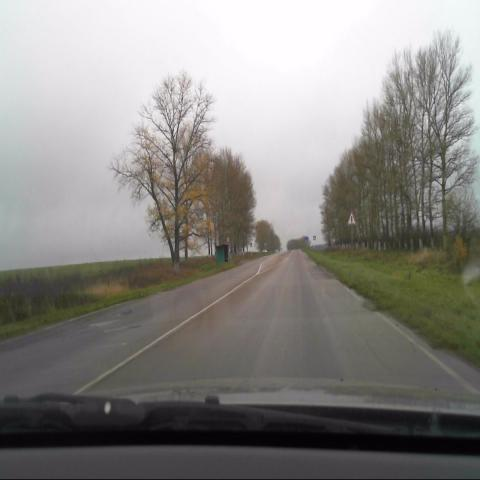2_3_3: (348, 210, 356, 224)
